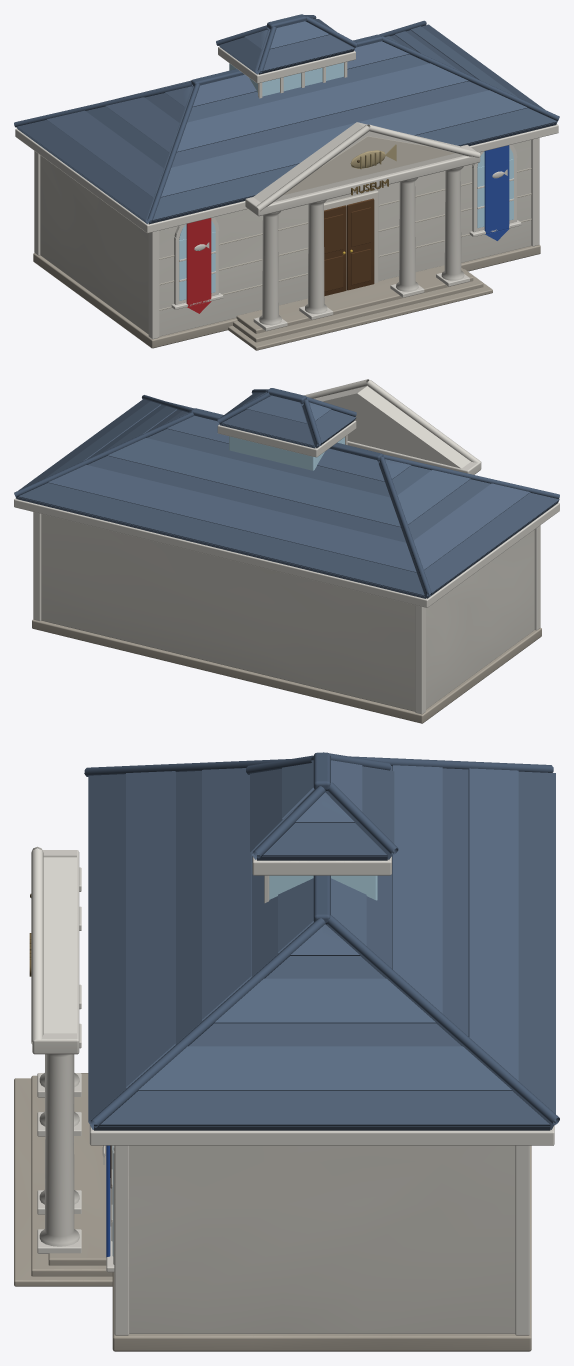
The model's file is bld_museum.glb.
3 views of the same model, one above another, from view 1: azimuth 30°, elevation 25°; view 2: azimuth 150°, elevation 25°; view 3: azimuth 270°, elevation 25° (orthographic). The views are drawn at different scales.
Visible parts, largest first — view 1: bld_museum_main, bld_museum_glass; view 2: bld_museum_main, bld_museum_glass; view 3: bld_museum_main, bld_museum_glass.
Part boxes in pixels (x1,y1,x2,y2): bld_museum_main: (14,14,559,350); bld_museum_glass: (179,62,513,300); bld_museum_main: (14,379,559,723); bld_museum_glass: (229,436,344,470); bld_museum_main: (14,752,559,1351); bld_museum_glass: (112,875,377,1255).
Bounding box in the file's own units: 6.86 × 3.75 × 4.43.
